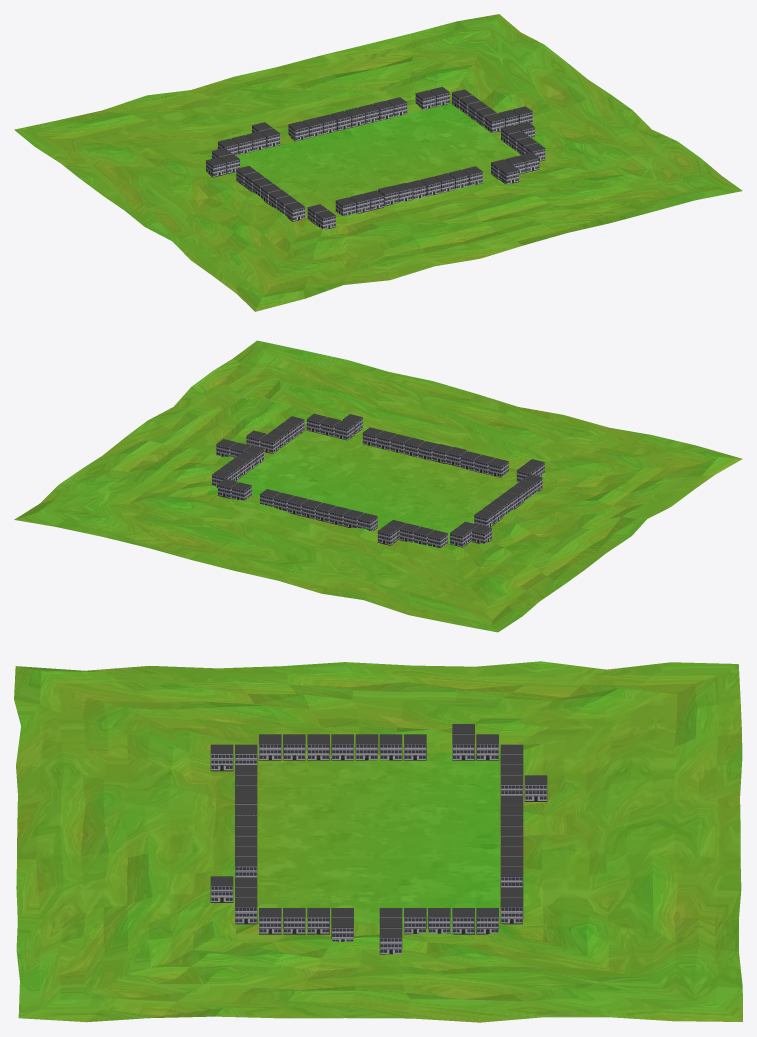
3 renders of one model, top to bottom at view 1: azimuth 30°, elevation 25°; view 2: azimuth 150°, elevation 25°; view 3: azimuth 270°, elevation 25°, orthographic. The views are drawn at different scales.
Visible parts, largest first — view 1: Plane, NormalBase.009; view 2: Plane, NormalBase.009; view 3: Plane, NormalBase.009.
Boxes of the visible parts, x1,y1,x2,y2 form: Plane: (14,14,742,311); NormalBase.009: (205,87,545,229); Plane: (14,340,742,632); NormalBase.009: (212,413,544,547); Plane: (14,661,742,1022); NormalBase.009: (210,724,547,954).
Size of the model in its own units: 3474 by 112 by 3018.
Materials: 2 (2 with a texture image).
